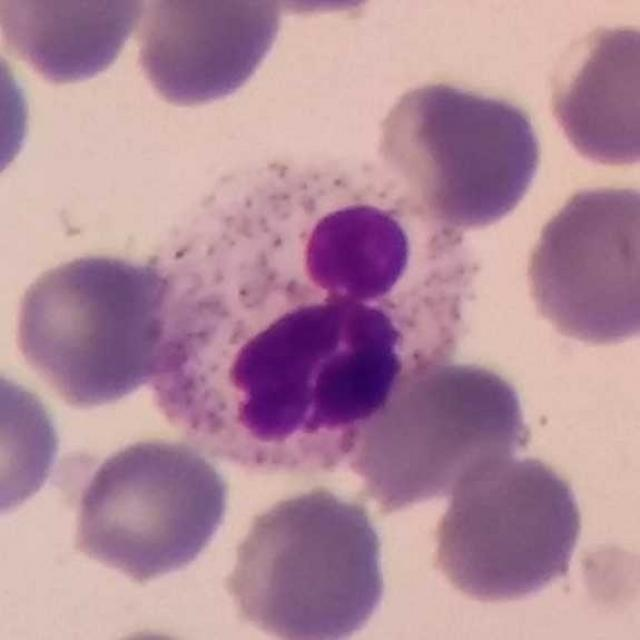Neutrophil: (138, 149, 483, 482)
RBC: (339, 352, 536, 508), (370, 72, 550, 230), (218, 482, 395, 640), (6, 246, 172, 410), (426, 448, 590, 608), (65, 433, 234, 584), (518, 177, 640, 350), (130, 0, 287, 114), (543, 15, 640, 174), (0, 0, 152, 88), (0, 361, 67, 525), (0, 28, 39, 197), (581, 536, 640, 624), (220, 0, 402, 21), (118, 624, 205, 640)
